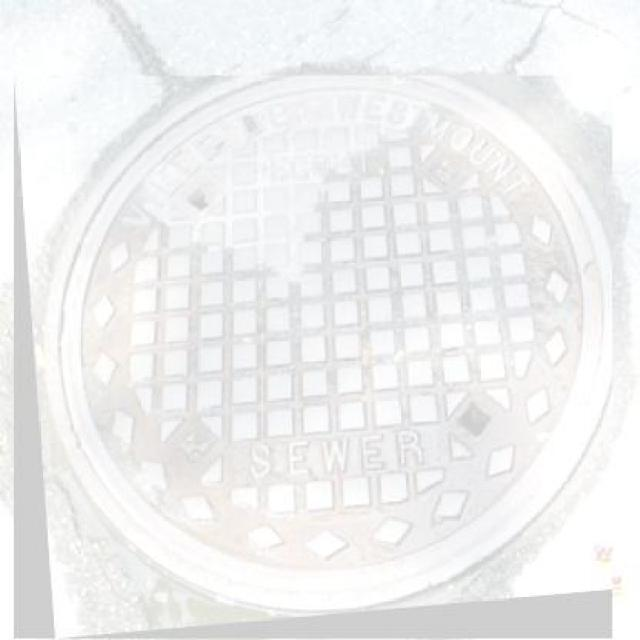Manhole: (14, 76, 612, 638)
